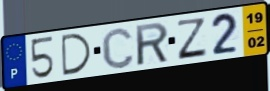2: (211, 10, 243, 59)
5: (29, 34, 56, 80)
C: (100, 25, 136, 70)
D: (59, 32, 94, 78)
R: (134, 21, 170, 67)
Z: (176, 17, 209, 61)
